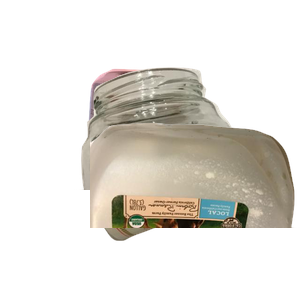glass: (74, 65, 300, 245)
metal: (82, 66, 270, 246)
plastic: (90, 120, 300, 300)
trash: (90, 129, 295, 300)
